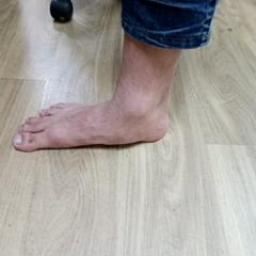Medial View -Right Foot-: (3, 52, 190, 171)
